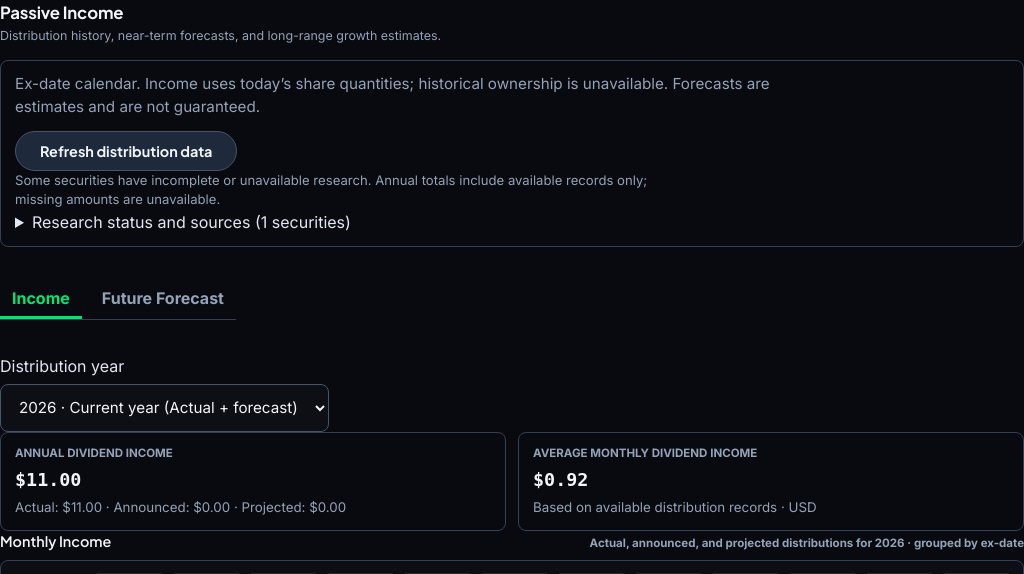
Test: PassiveIncomePage › flags an invalid saved growth rate and does not render a misleading forecast
Click the tab "Future Forecast" at [163, 300], box [90,281,236,319]
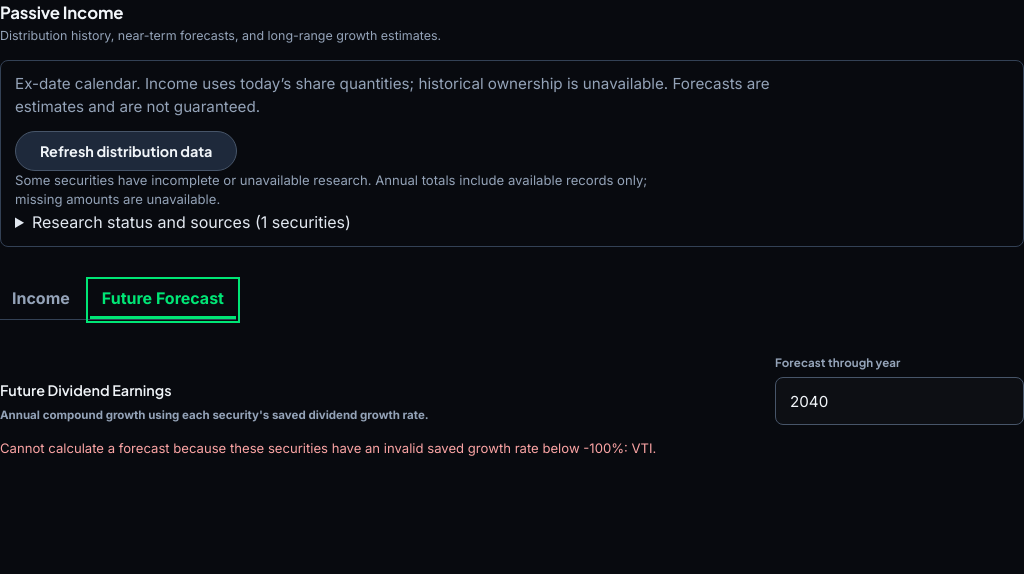
expect the message shows "invalid saved growth rate": met, box [0,440,632,456]
